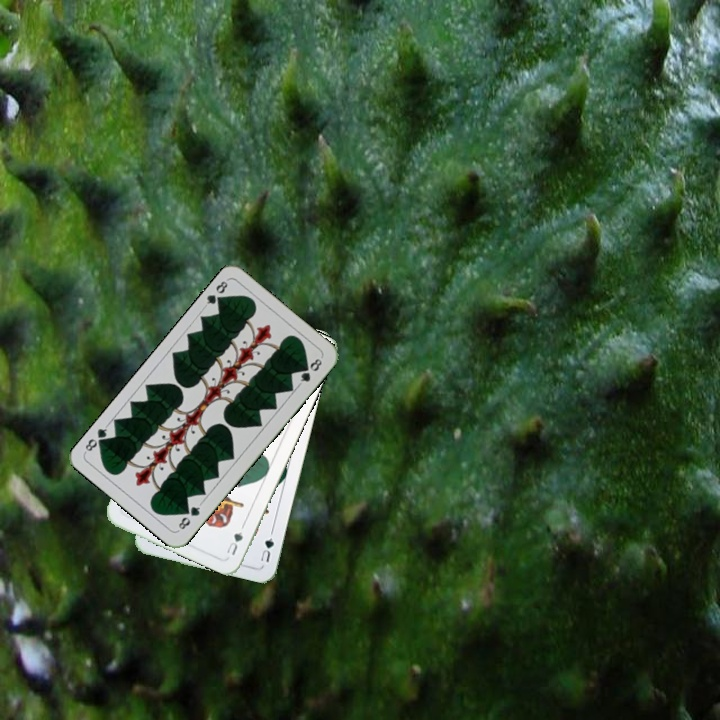G8: (200, 276, 230, 310), (174, 499, 204, 532)
GU: (223, 527, 246, 558), (256, 534, 276, 565)
